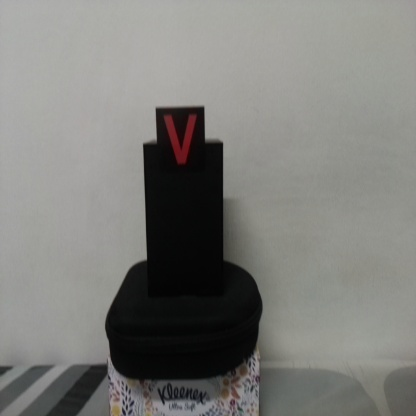id_11: (155, 108, 206, 171)
